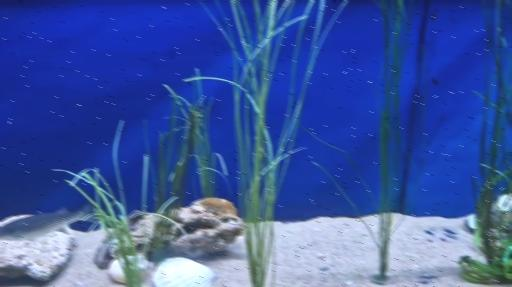Fish: (0, 204, 96, 240)
